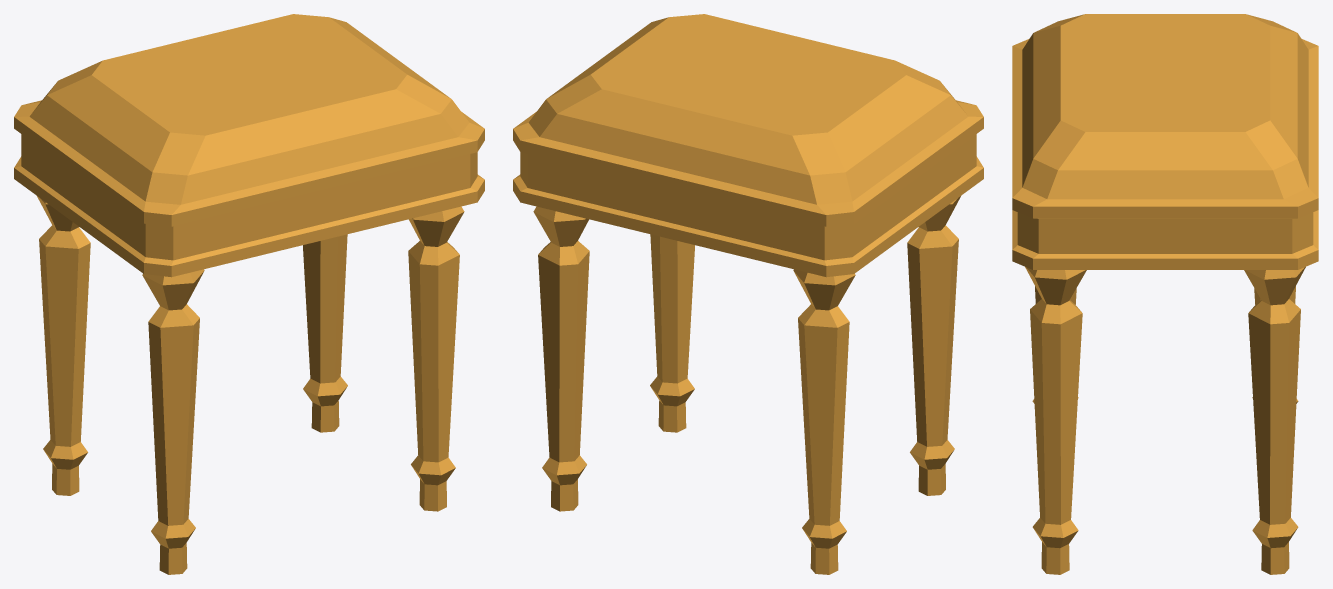
The model's file is SM_Stool_Vanity_Victorian.fbx.
3 renders of one model, left to right at view 1: azimuth 30°, elevation 25°; view 2: azimuth 150°, elevation 25°; view 3: azimuth 270°, elevation 25°, orthographic.
Visible parts, largest first — view 1: stool-vanity-victorian; view 2: stool-vanity-victorian; view 3: stool-vanity-victorian.
Boxes of the visible parts, x1,y1,x2,y2 form: stool-vanity-victorian: [14, 14, 484, 574]; stool-vanity-victorian: [513, 14, 983, 574]; stool-vanity-victorian: [1012, 14, 1318, 574].
Bounding box in the file's own units: 0.4214 × 0.5 × 0.3214.
